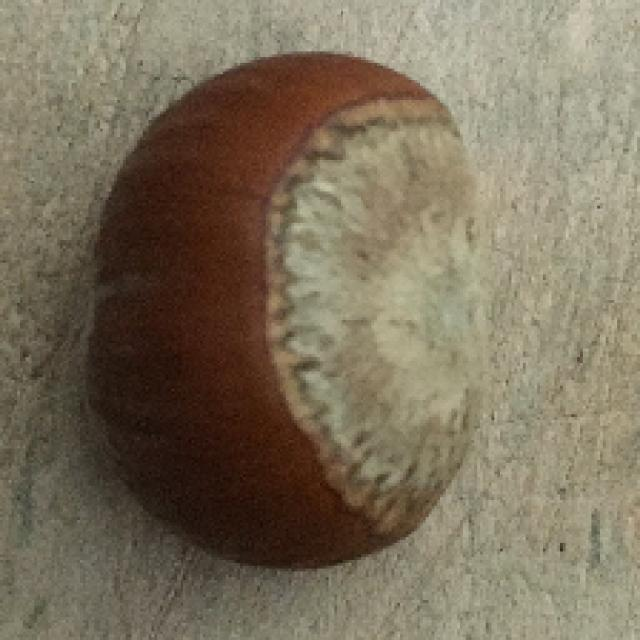qualityHazelnut: (66, 36, 489, 578)
